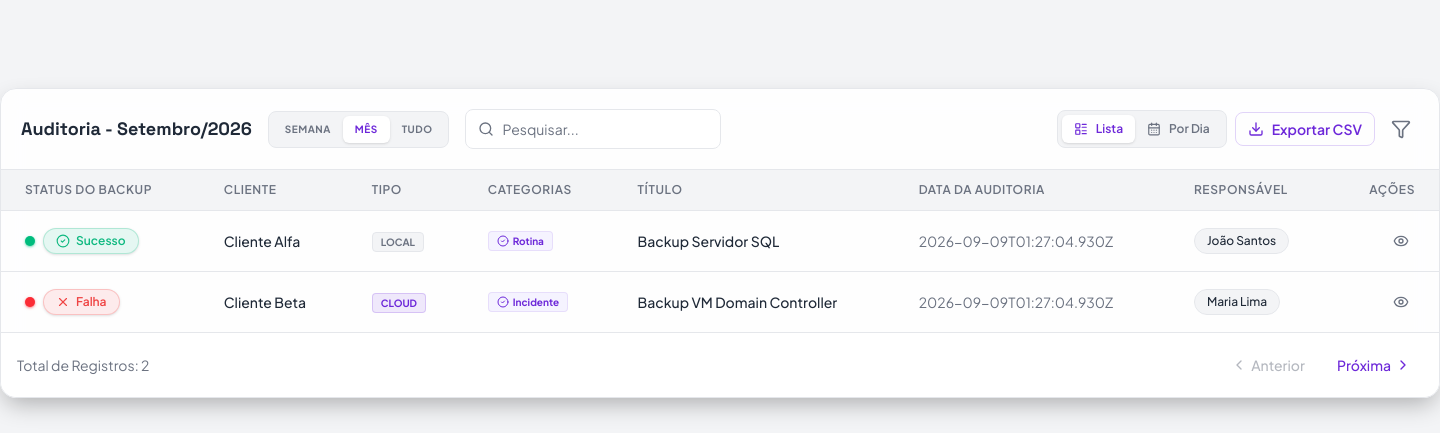
Test: 3.3 Componentes Críticos - RecordsView (Lista de Registros de Backup) › deve filtrar registros pelo termo digitado no campo de busca
Type "Beta" into the field with placeholder "Pesquisar...". click: (612, 129)
box: [502,110,720,148]
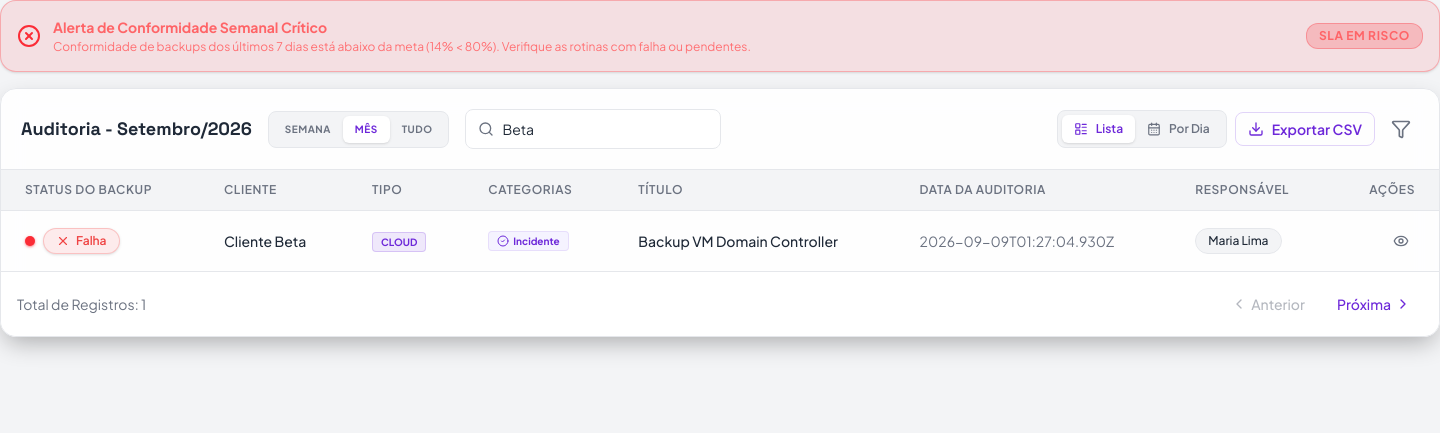
Expected: the text "Cliente Beta" is shown, [224,232,306,250]
Result: the text "Cliente Alfa" is gone
